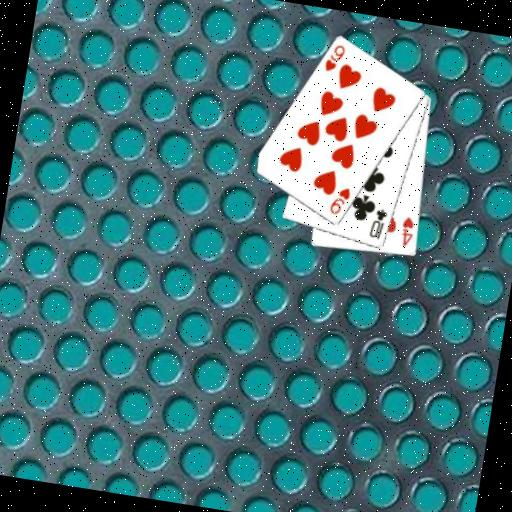10C: (365, 205, 389, 242)
4H: (396, 213, 418, 249)
9H: (326, 182, 353, 218), (321, 40, 348, 76)
